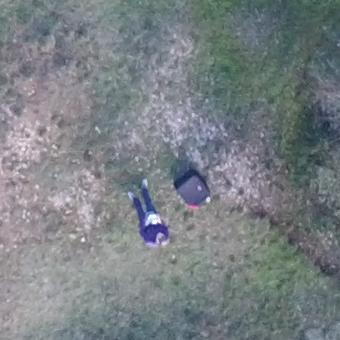human: (123, 179, 176, 249)
